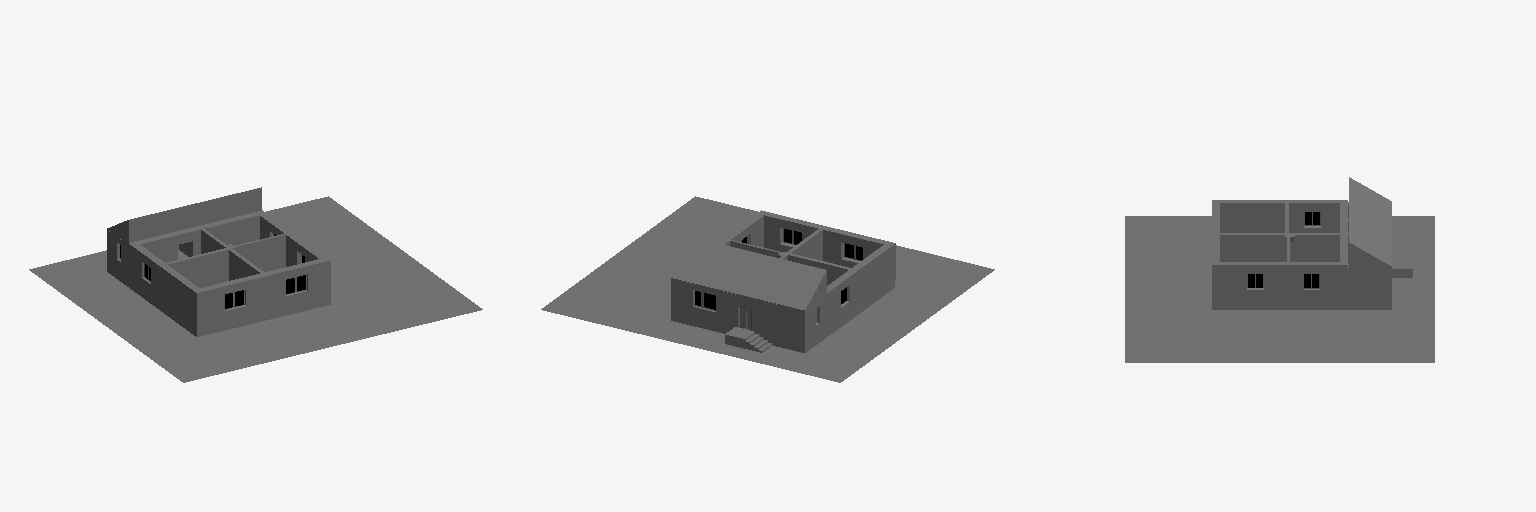
File: HomeOBJ.obj
The picture shows the model from 3 angles: view 1: azimuth 30°, elevation 25°; view 2: azimuth 150°, elevation 25°; view 3: azimuth 270°, elevation 25°; orthographic projection.
Parts seen in each view (by area): view 1: pasted__pPlane1 polySurface1, pCube26, pasted__pPlane1 polySurface25, pasted__pPlane1 polySurface20, pasted__pPlane1 polySurface21, pasted__pPlane1 polySurface23, pasted__pPlane1 polySurface2, pasted__pPlane1 polySurface18, pasted__pPlane1 polySurface31 polySurface24, pasted__pPlane1 polySurface24 polySurface32, pasted__pPlane1 polySurface33 polySurface29, pasted__pPlane1 polySurface30 (+1 smaller); view 2: pasted__pPlane1 polySurface1, pCube26, pasted__pPlane1 polySurface19, pasted__pPlane1 polySurface25, pasted__pPlane1 polySurface21, pasted__pPlane1 polySurface31 polySurface24, pasted__pPlane1 polySurface24 polySurface32, pasted__pPlane1 polySurface26, pasted__pPlane1 polySurface33 polySurface29, pasted__pPlane1 polySurface30, pasted__pPlane1 polySurface27, pasted__pPlane1 polySurface18; view 3: pasted__pPlane1 polySurface1, pCube26, pasted__pPlane1 polySurface33 polySurface29, pasted__pPlane1 polySurface29 polySurface34, pasted__pPlane1 polySurface24 polySurface32, pasted__pPlane1 polySurface30, pasted__pPlane1 polySurface31 polySurface24, pasted__pPlane1 polySurface23, pasted__pPlane1 polySurface22, pasted__pPlane1 polySurface2.
Part boxes in pixels (left/top/right/bottom): pasted__pPlane1 polySurface1: left=29, top=196, right=482, bottom=382; pCube26: left=107, top=187, right=261, bottom=244; pasted__pPlane1 polySurface25: left=192, top=273, right=265, bottom=329; pasted__pPlane1 polySurface20: left=136, top=212, right=259, bottom=262; pasted__pPlane1 polySurface21: left=263, top=259, right=323, bottom=312; pasted__pPlane1 polySurface23: left=179, top=229, right=285, bottom=271; pasted__pPlane1 polySurface2: left=129, top=280, right=330, bottom=336; pasted__pPlane1 polySurface18: left=166, top=248, right=228, bottom=287; pasted__pPlane1 polySurface31 polySurface24: left=128, top=241, right=166, bottom=302; pasted__pPlane1 polySurface24 polySurface32: left=161, top=265, right=198, bottom=325; pasted__pPlane1 polySurface33 polySurface29: left=284, top=232, right=330, bottom=297; pasted__pPlane1 polySurface30: left=228, top=248, right=263, bottom=280; pasted__pPlane1 polySurface1: left=541, top=196, right=994, bottom=382; pCube26: left=671, top=237, right=826, bottom=310; pasted__pPlane1 polySurface19: left=671, top=279, right=808, bottom=344; pasted__pPlane1 polySurface25: left=822, top=226, right=895, bottom=282; pasted__pPlane1 polySurface21: left=764, top=212, right=825, bottom=251; pasted__pPlane1 polySurface31 polySurface24: left=827, top=268, right=859, bottom=329; pasted__pPlane1 polySurface24 polySurface32: left=853, top=245, right=890, bottom=304; pasted__pPlane1 polySurface26: left=671, top=313, right=826, bottom=352; pasted__pPlane1 polySurface33 polySurface29: left=723, top=210, right=767, bottom=247; pasted__pPlane1 polySurface30: left=787, top=229, right=822, bottom=260; pasted__pPlane1 polySurface27: left=809, top=296, right=826, bottom=341; pasted__pPlane1 polySurface18: left=788, top=253, right=850, bottom=285; pasted__pPlane1 polySurface1: left=1125, top=216, right=1434, bottom=362; pCube26: left=1349, top=177, right=1391, bottom=267; pasted__pPlane1 polySurface33 polySurface29: left=1212, top=262, right=1289, bottom=301; pasted__pPlane1 polySurface29 polySurface34: left=1290, top=262, right=1347, bottom=301; pasted__pPlane1 polySurface24 polySurface32: left=1220, top=200, right=1282, bottom=232; pasted__pPlane1 polySurface30: left=1220, top=233, right=1286, bottom=261; pasted__pPlane1 polySurface31 polySurface24: left=1283, top=200, right=1347, bottom=232; pasted__pPlane1 polySurface23: left=1285, top=233, right=1348, bottom=263; pasted__pPlane1 polySurface22: left=1348, top=264, right=1384, bottom=301; pasted__pPlane1 polySurface2: left=1212, top=302, right=1347, bottom=309.
Size of the model in its own units: 205 by 44.16 by 184.